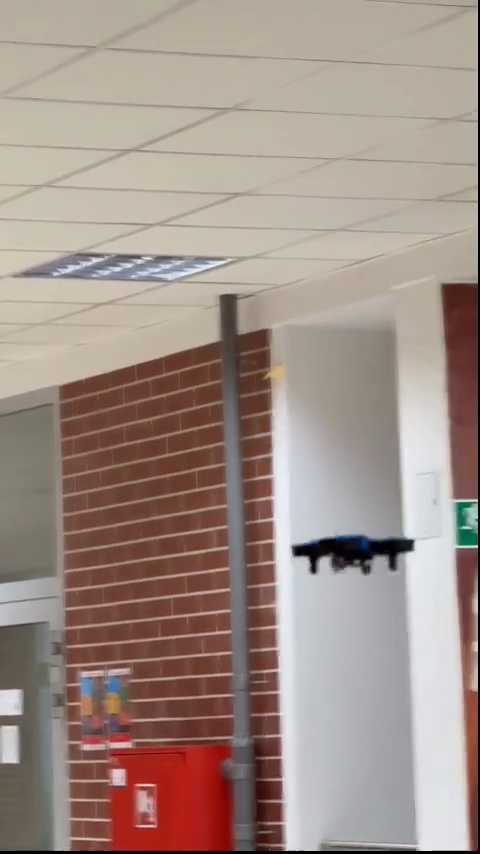drone: (296, 530, 420, 570)
